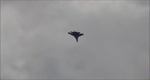maybay_muctieu: (68, 28, 83, 44)
